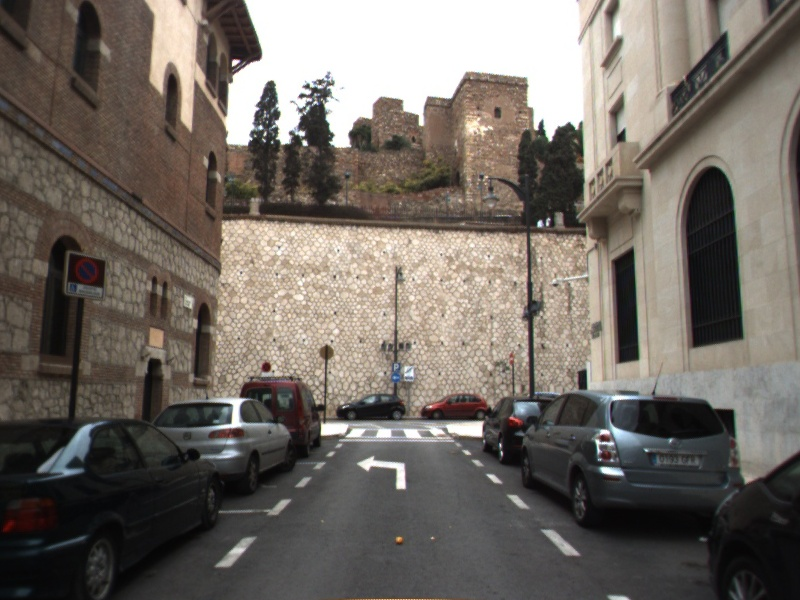LEFT: (355, 454, 408, 491)
